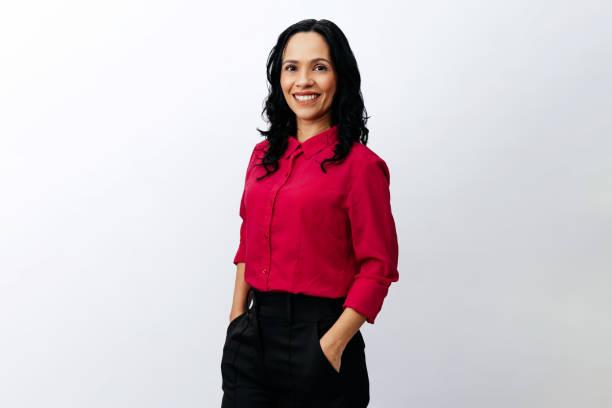no_goggle: (274, 55, 343, 83)
no_helmet: (254, 12, 351, 57)
no_vest: (224, 119, 400, 359)
